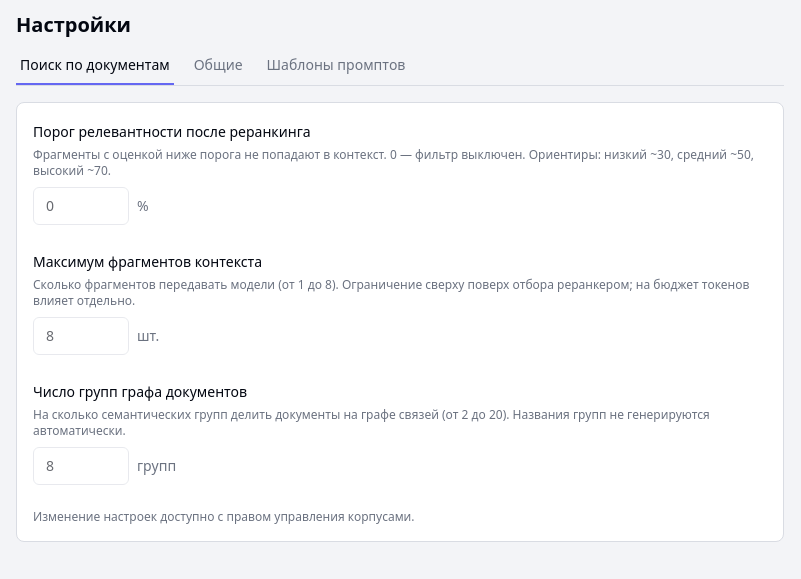
Test: SettingsPage — вкладка «Шаблоны промптов» (T-507) › редактирование подставляет значения в форму
Click the button with test id "settings-tab-prompts".
click(336, 70)  # box [263,55,409,85]
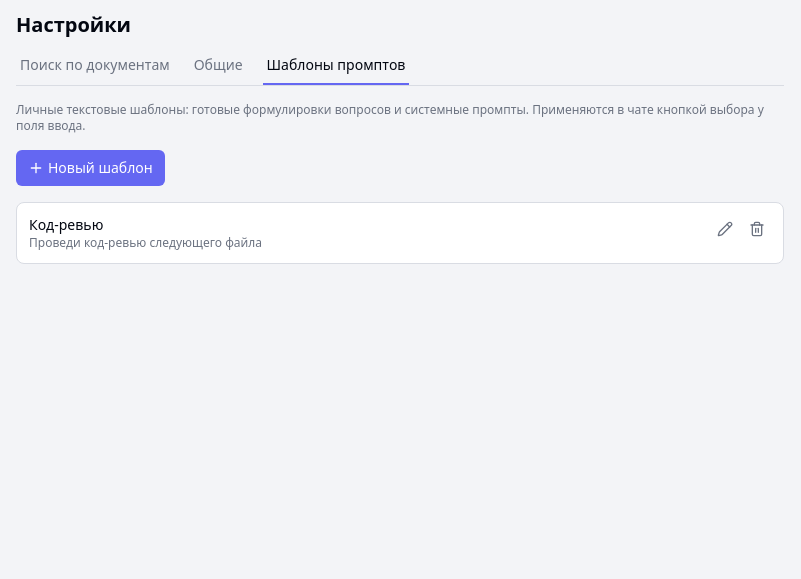
Click the button with test id "prompt-template-edit".
click(725, 229)  # box [711,215,739,243]
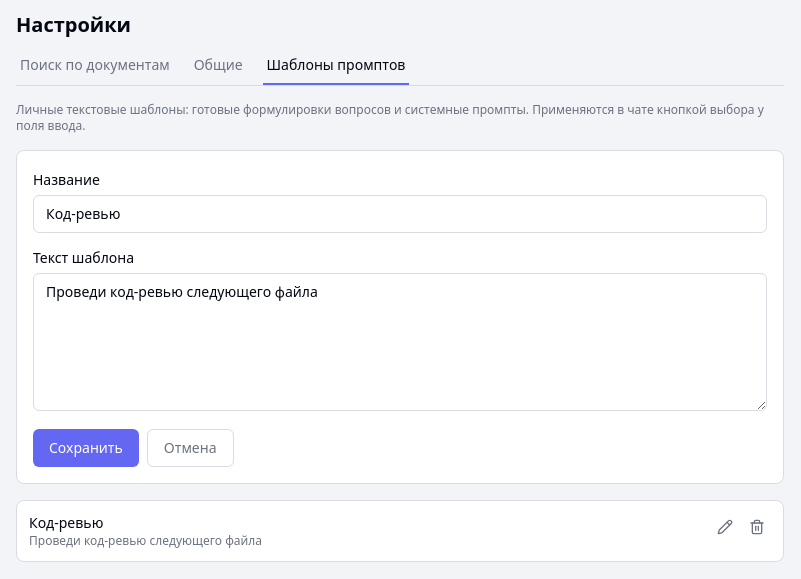
Check: the field with test id "prompt-template-title" holds "Код-ревью", box [33,195,767,233]
Check: the text box with test id "prompt-template-body" holds "Проведи код-ревью следующего файла", box [33,273,767,411]
